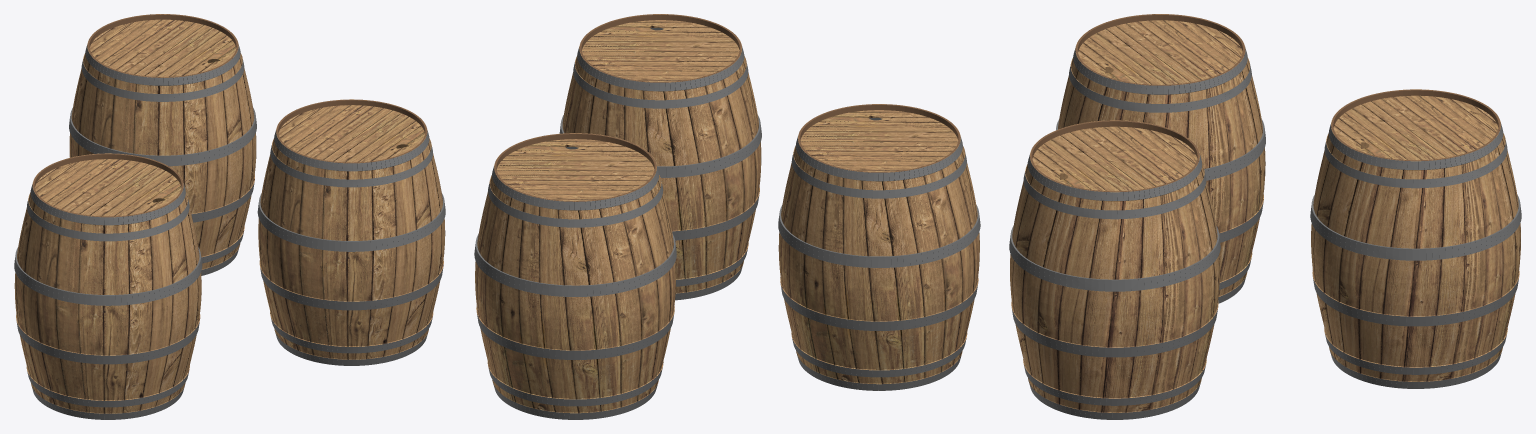
Rendered from barrel.obj.
The picture shows the model from 3 angles, left to right: view 1: azimuth 30°, elevation 25°; view 2: azimuth 150°, elevation 25°; view 3: azimuth 270°, elevation 25°; orthographic projection. The views are drawn at different scales.
Parts seen in each view (by area): view 1: Cylinder_Cylinder.000, Cylinder_Cylinder.002, Cylinder_Cylinder.001; view 2: Cylinder_Cylinder.001, Cylinder_Cylinder.000, Cylinder_Cylinder.002; view 3: Cylinder_Cylinder.001, Cylinder_Cylinder.002, Cylinder_Cylinder.000.
Part boxes in pixels (left/top/right/bottom): Cylinder_Cylinder.000: left=14, top=153, right=202, bottom=419; Cylinder_Cylinder.002: left=257, top=99, right=445, bottom=365; Cylinder_Cylinder.001: left=69, top=14, right=256, bottom=275; Cylinder_Cylinder.001: left=474, top=133, right=676, bottom=419; Cylinder_Cylinder.000: left=778, top=104, right=980, bottom=390; Cylinder_Cylinder.002: left=559, top=14, right=761, bottom=300; Cylinder_Cylinder.001: left=1310, top=89, right=1521, bottom=388; Cylinder_Cylinder.002: left=1009, top=120, right=1220, bottom=419; Cylinder_Cylinder.000: left=1056, top=14, right=1265, bottom=303.
Size of the model in its own units: 5.38 by 2.9 by 5.5.
Materials: 6 (6 with a texture image).
